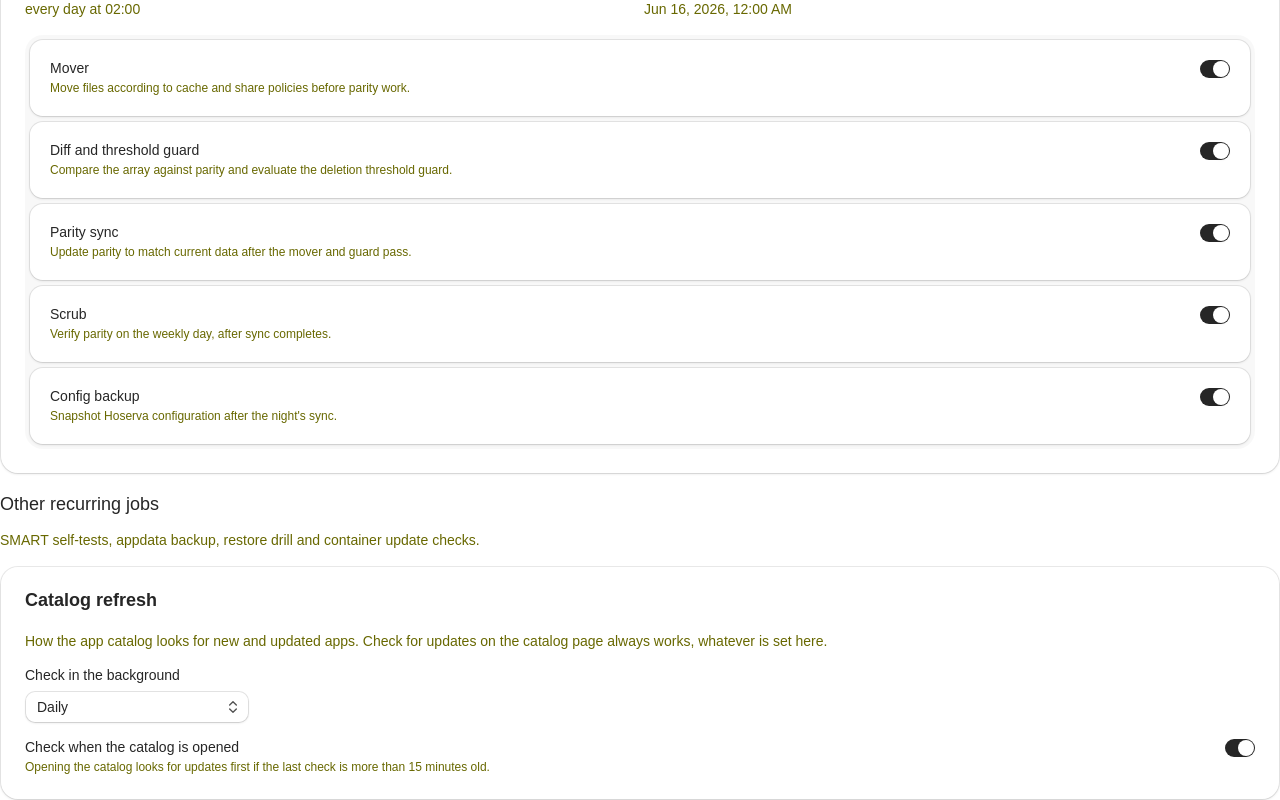
it: Catalog refresh card on the schedules page › saves a new interval and shows it once the daemon returns it
The width and height of the screenshot is (1280, 800).
(page scrolled)
Click the dropdown named "Check in the background" at (137, 707), box top-left (25, 691), bottom-right (249, 723)
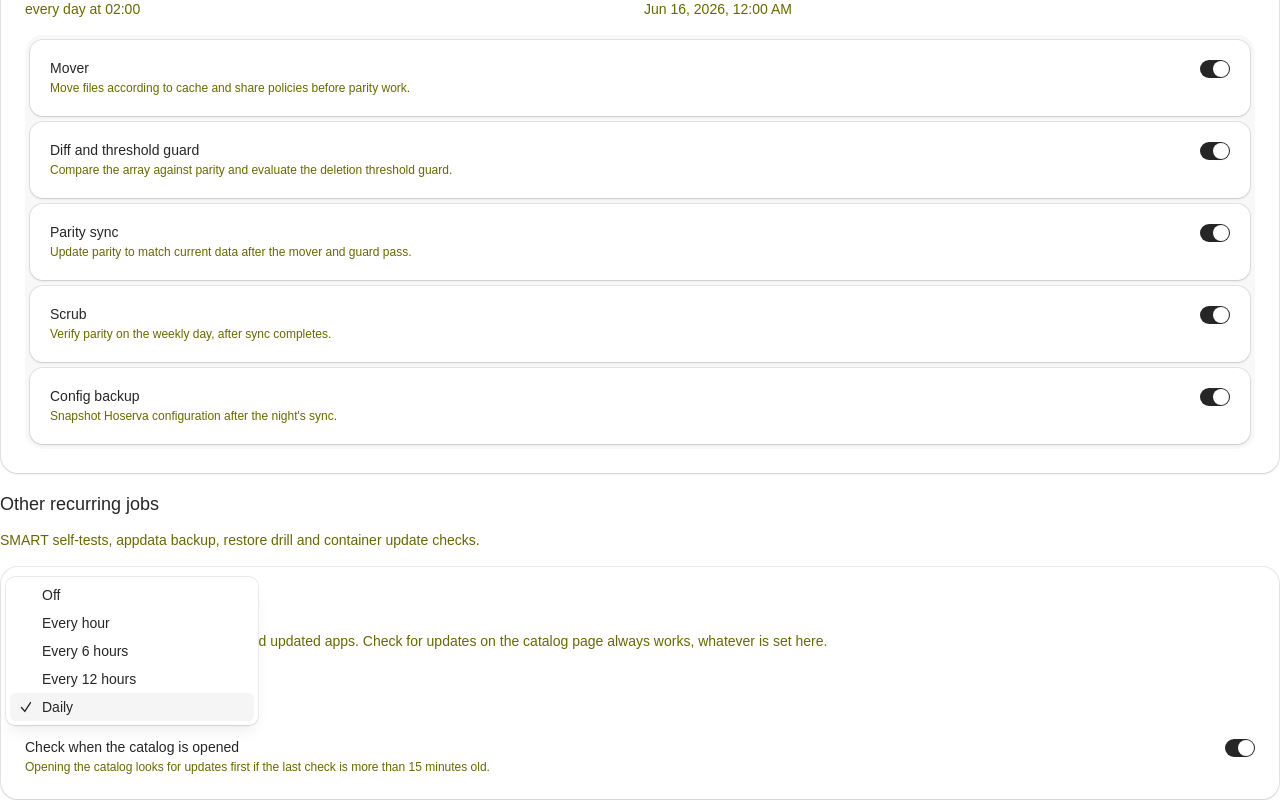
Click the option "Every 6 hours" at (85, 651), box top-left (42, 643), bottom-right (128, 659)
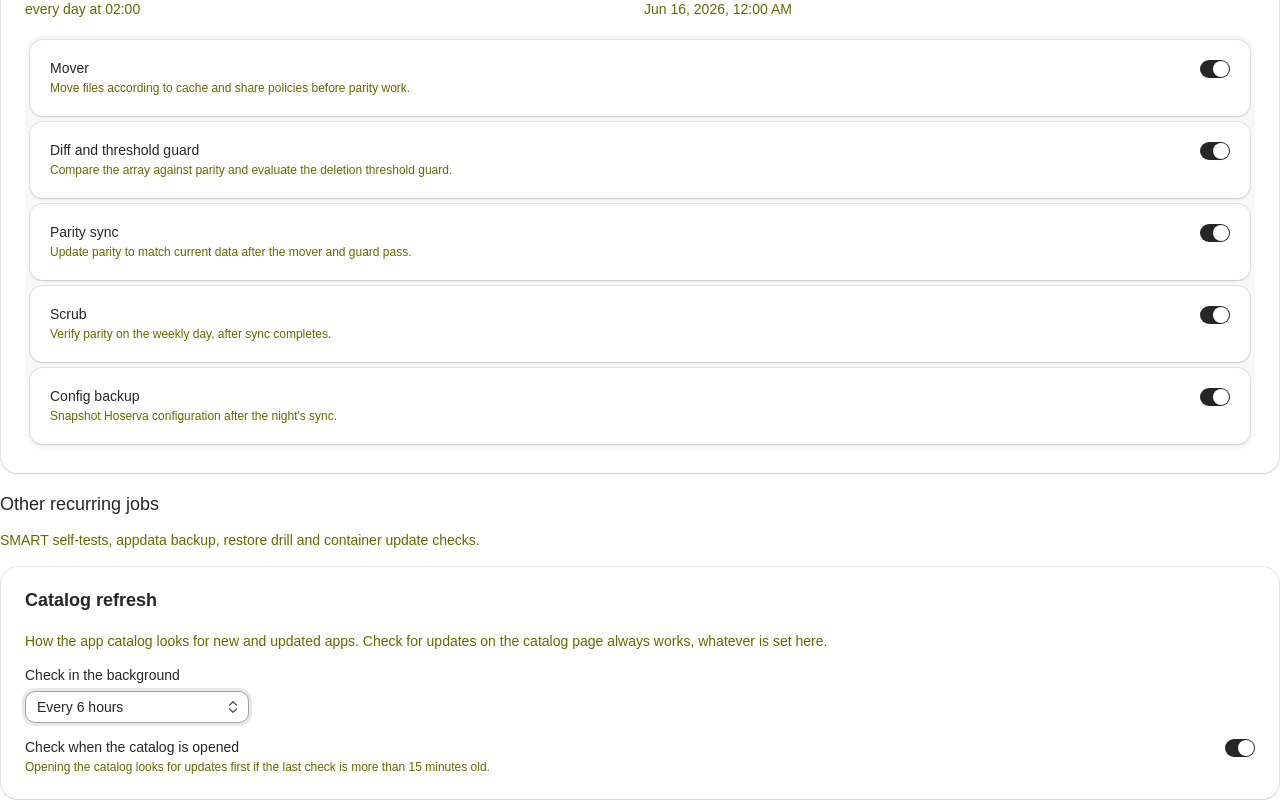
Now the text "Every 6 hours" is shown, box top-left (37, 699), bottom-right (123, 715)
